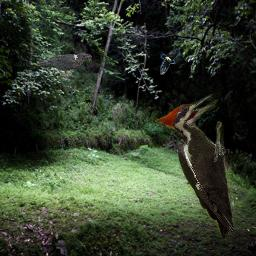Crow: (36, 52, 92, 78)
Swallow: (160, 48, 180, 75)
Woodpecker: (155, 94, 235, 240)
